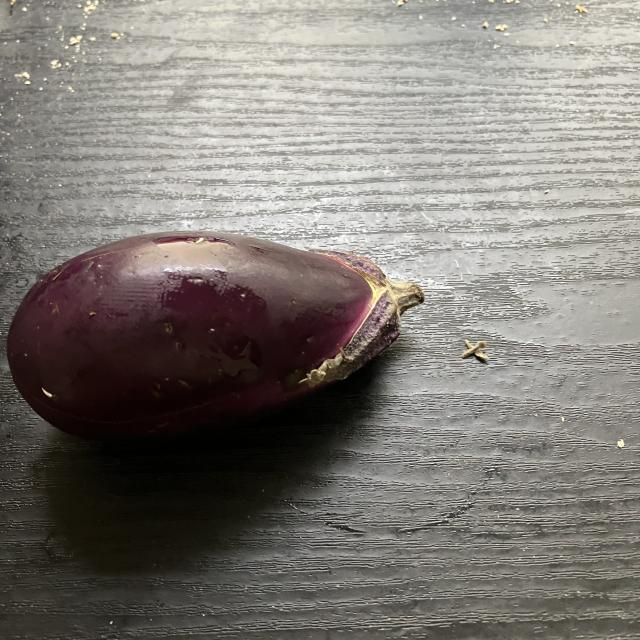eggplant: (5, 227, 428, 435)
